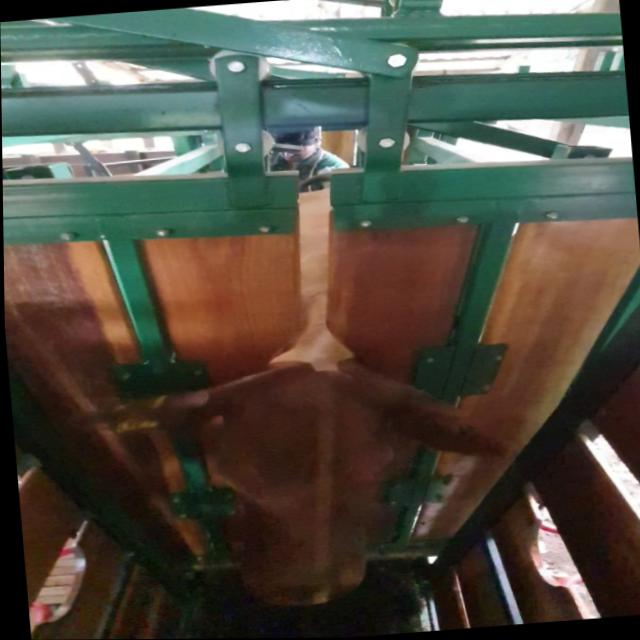cowFace: (203, 368, 405, 611)
